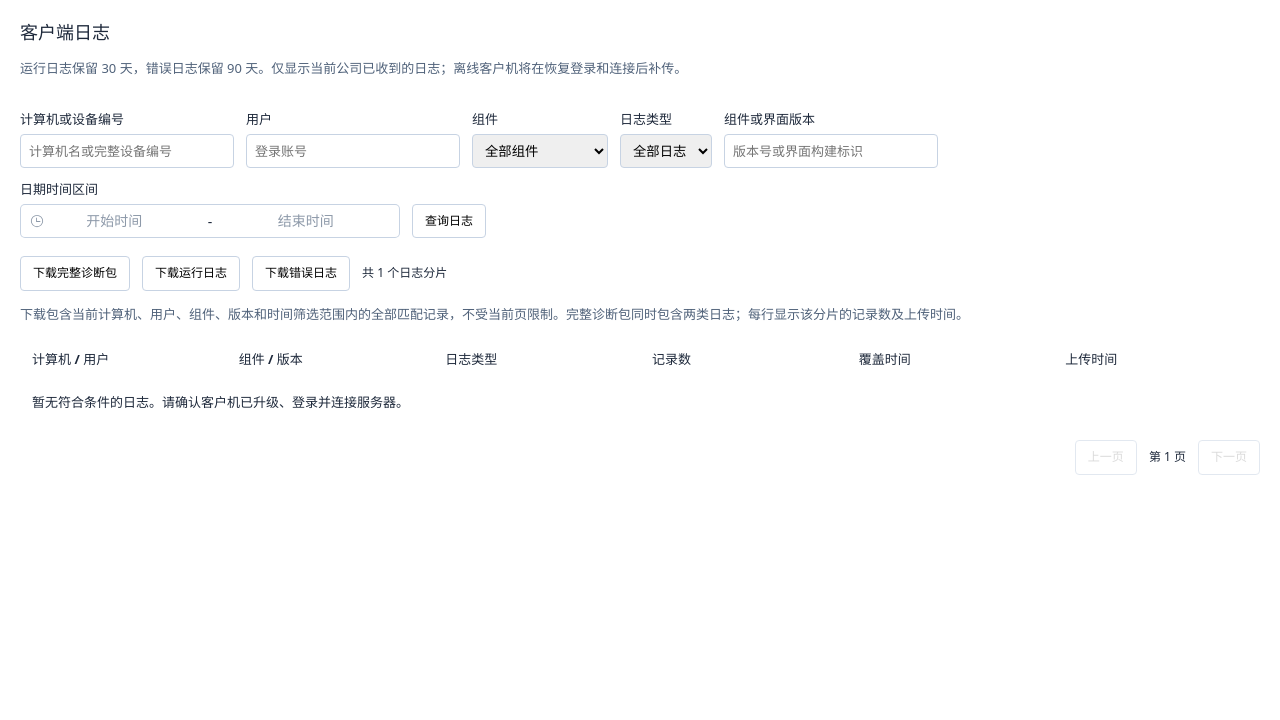
Test: uses filters for downloads and complete diagnostics explicitly includes both classes
In the field labelled "计算机或设备编号": (127,151) x1=20 y1=134 x2=234 y2=168, type "设计电脑"
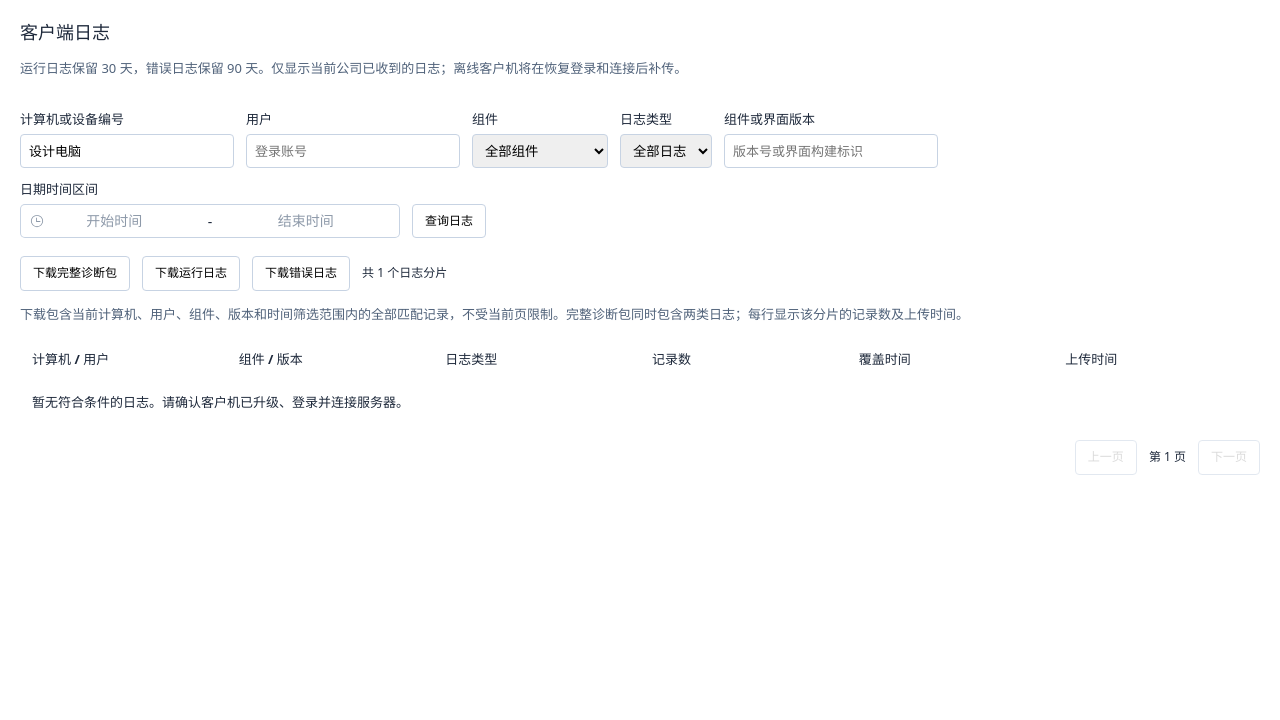
Select "错误日志" in the dropdown labelled "日志类型": (666,151) x1=620 y1=134 x2=712 y2=168
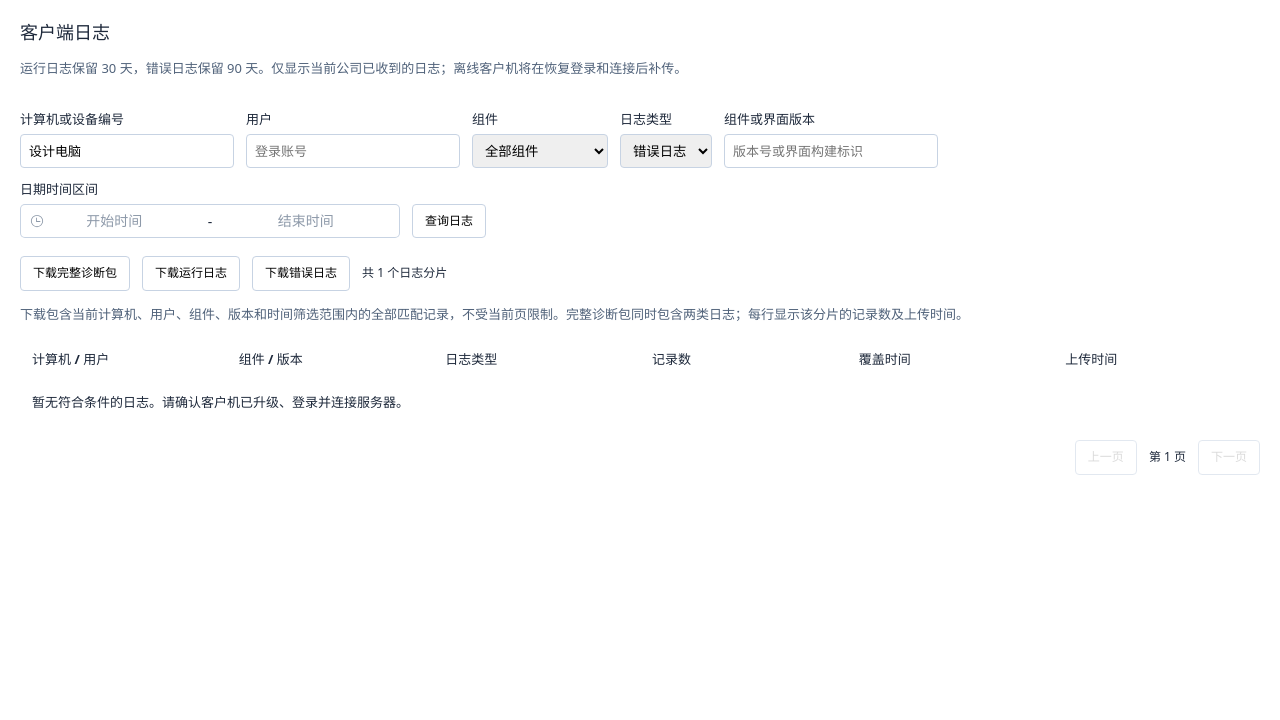
Submit the form, box x1=20 y1=110 x2=938 y2=238
Click the button "下载完整诊断包": (75,274) x1=20 y1=256 x2=130 y2=291
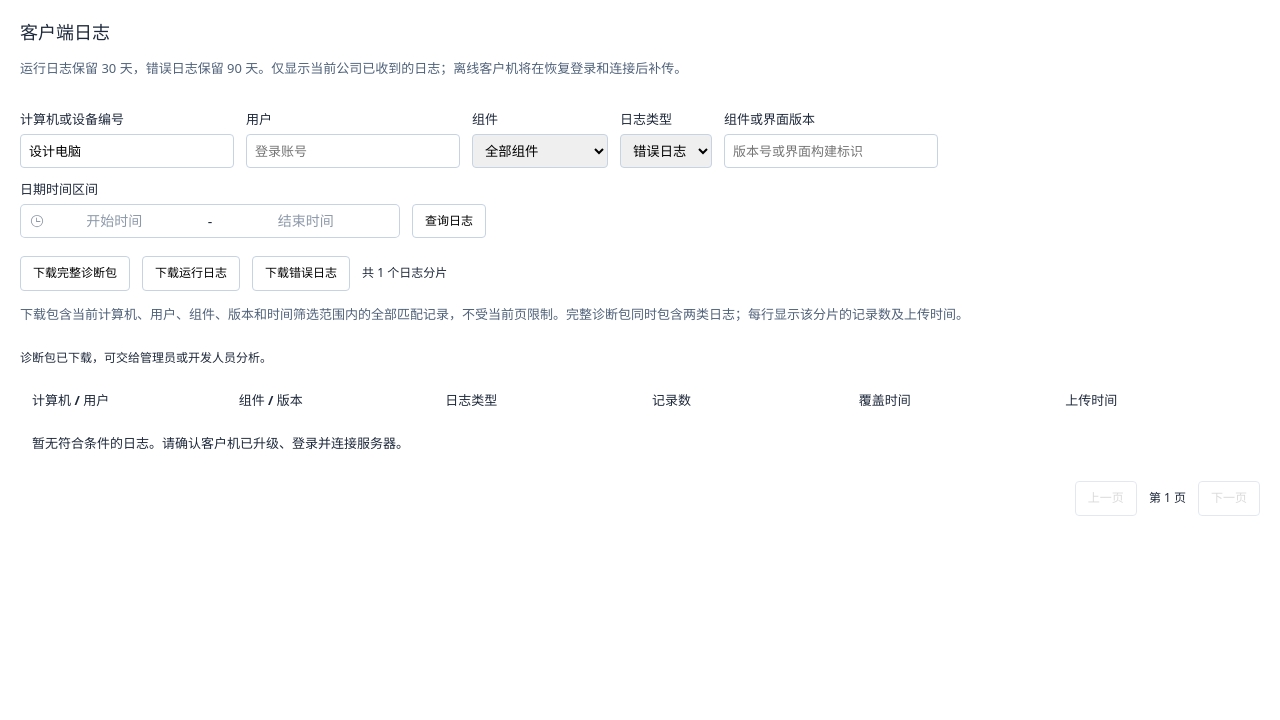
Check: the text "诊断包已下载" is shown, box x1=20 y1=349 x2=272 y2=366
